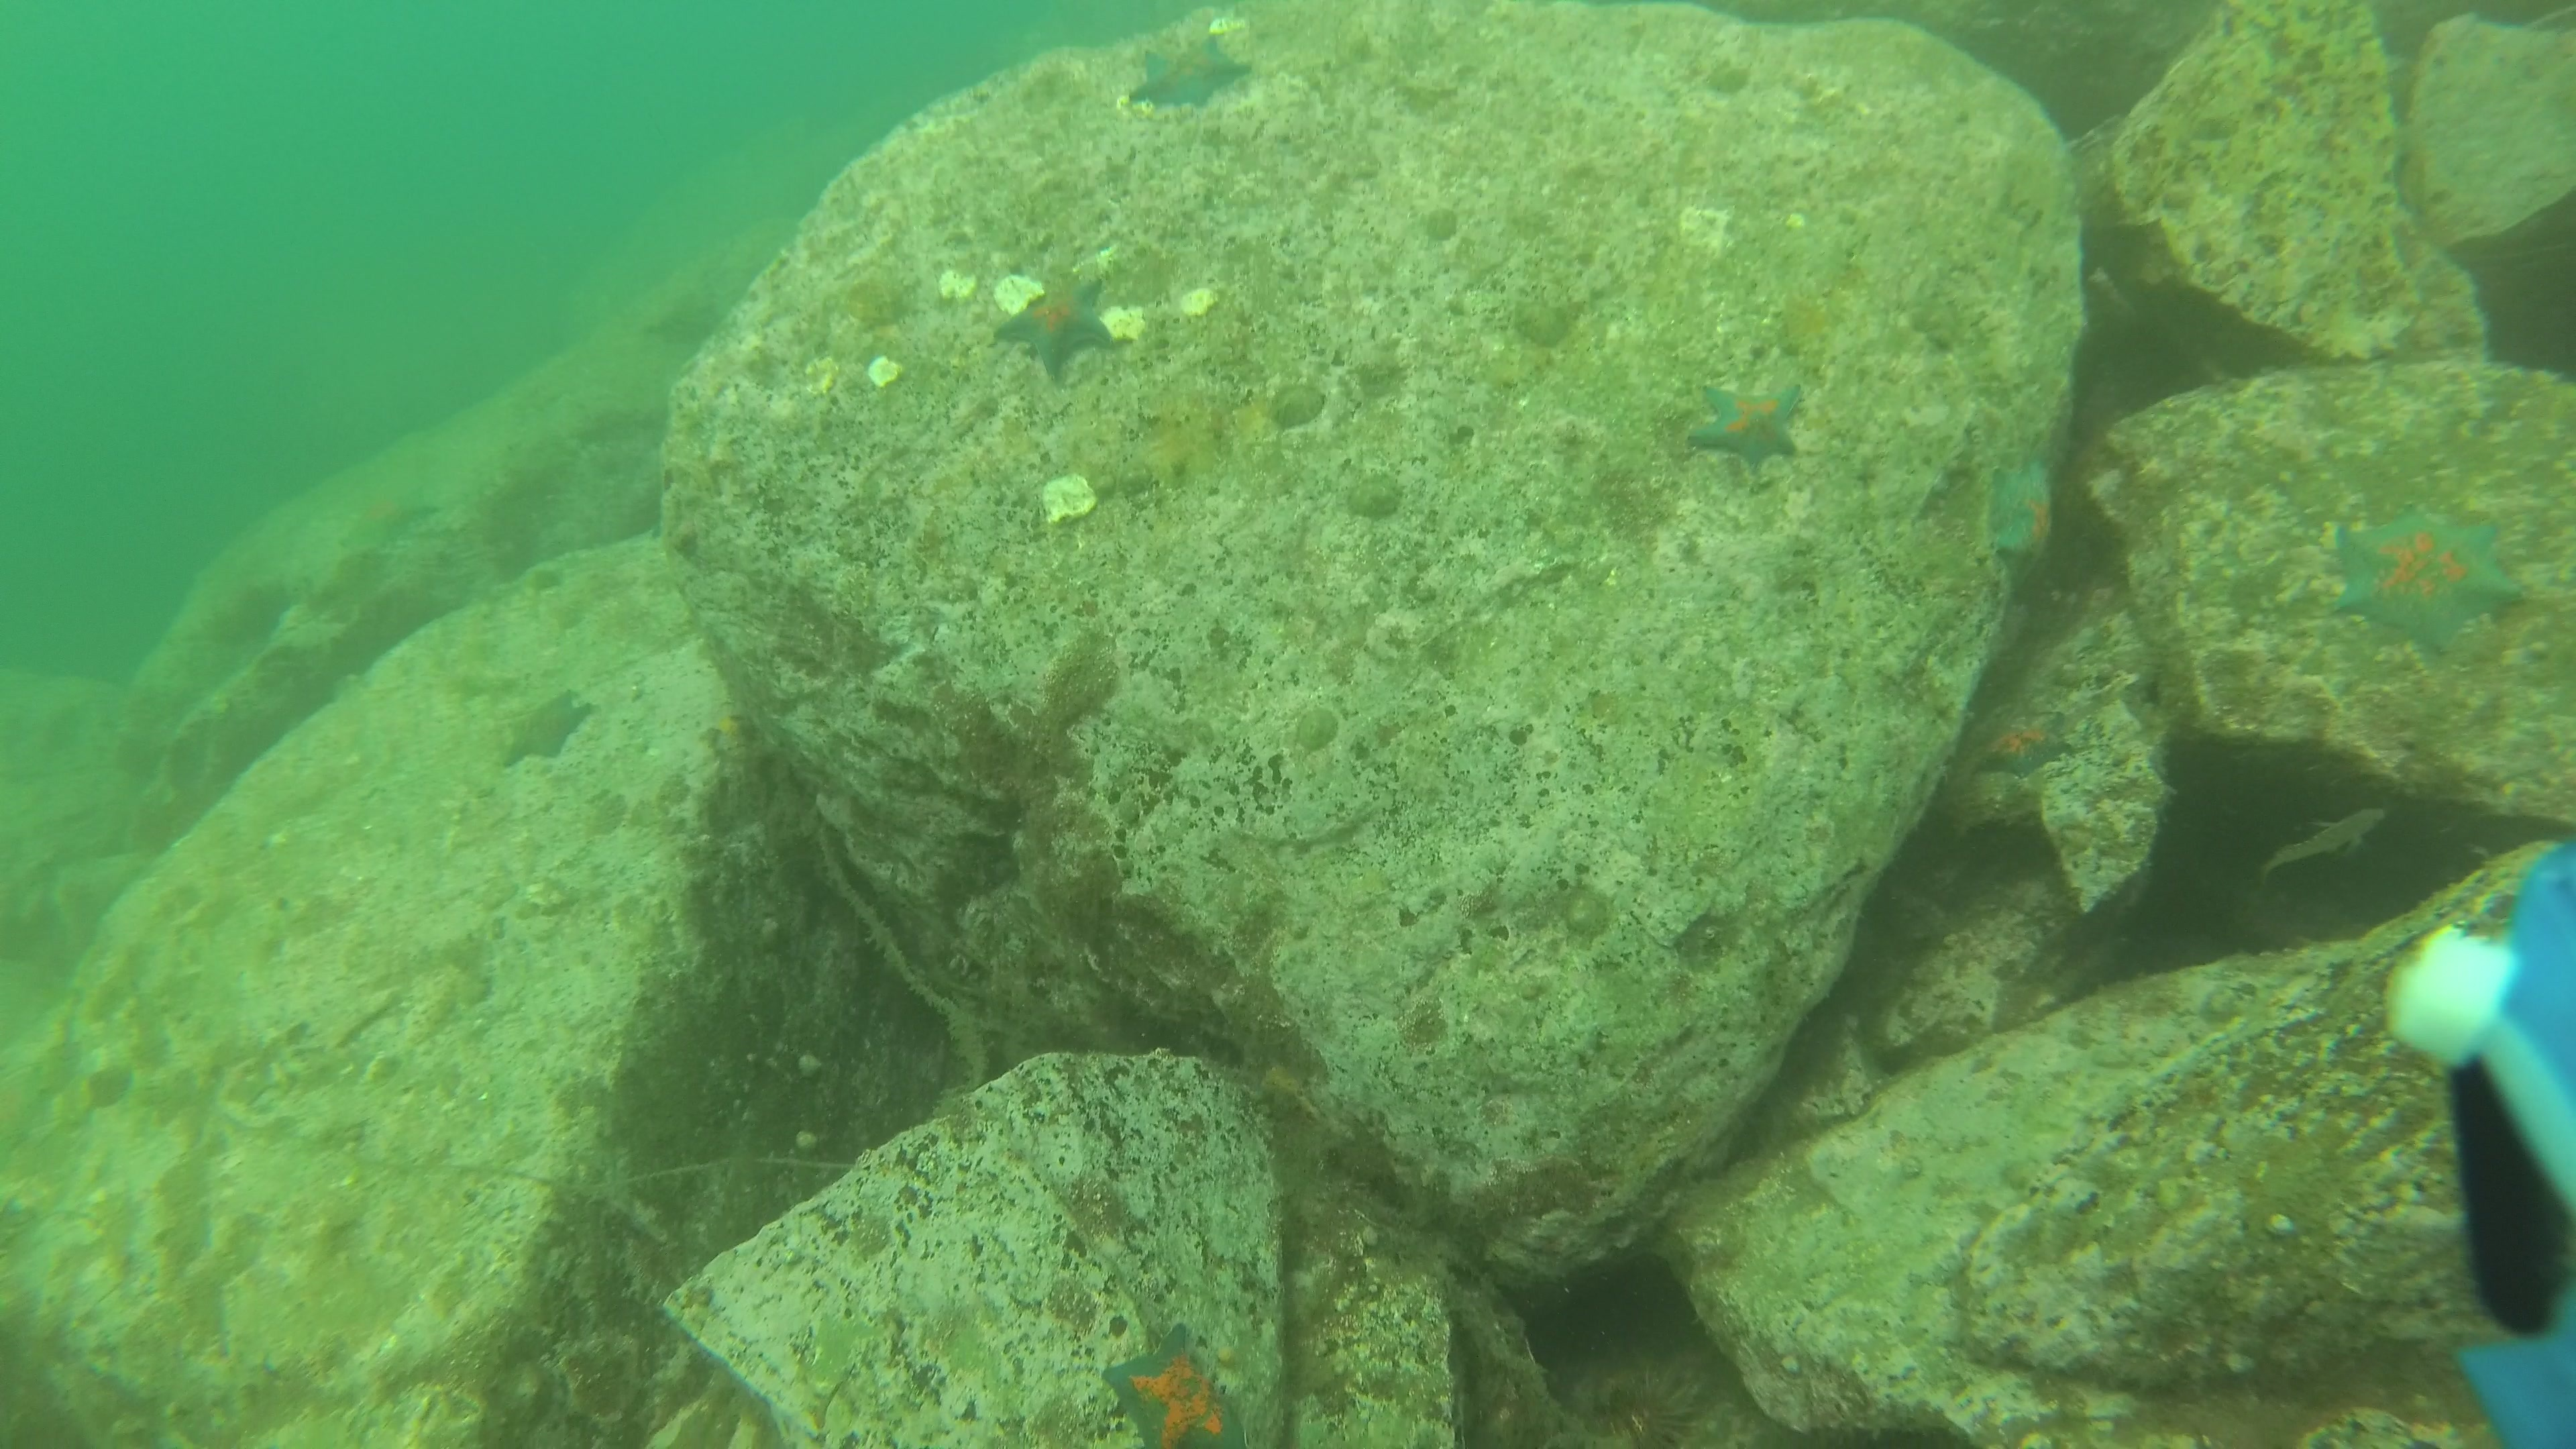starfish: (2323, 494, 2534, 658), (1093, 1320, 1256, 1449), (996, 276, 1122, 382), (1688, 370, 1808, 479), (1980, 449, 2059, 594), (1129, 32, 1254, 113), (501, 685, 596, 771), (1974, 706, 2074, 780)
